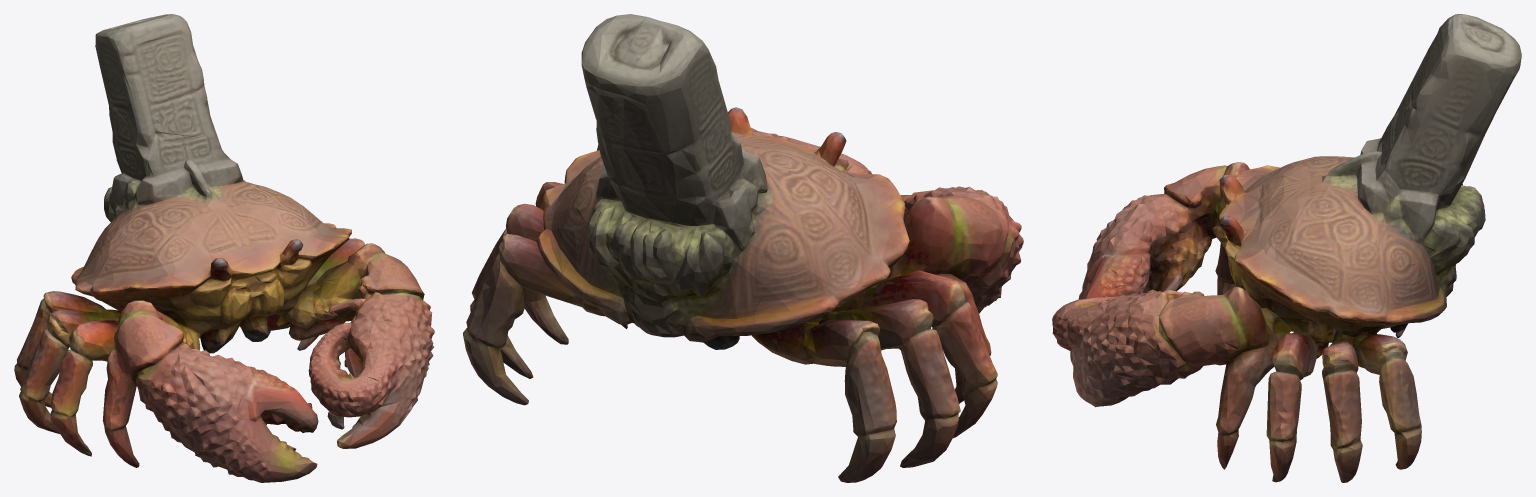
Rendered from atlacrab.glb.
3 views of the same model, side by side, from view 1: azimuth 30°, elevation 25°; view 2: azimuth 150°, elevation 25°; view 3: azimuth 270°, elevation 25° (orthographic). The views are drawn at different scales.
Visible parts, largest first — view 1: world; view 2: world; view 3: world.
Boxes of the visible parts, box(x1,y1,x2,y2) form: world: box(14, 14, 434, 482); world: box(463, 14, 1023, 482); world: box(1052, 14, 1521, 482).
Size of the model in its own units: 0.9881 by 0.8875 by 0.9947.
1 material, 1 textured.
